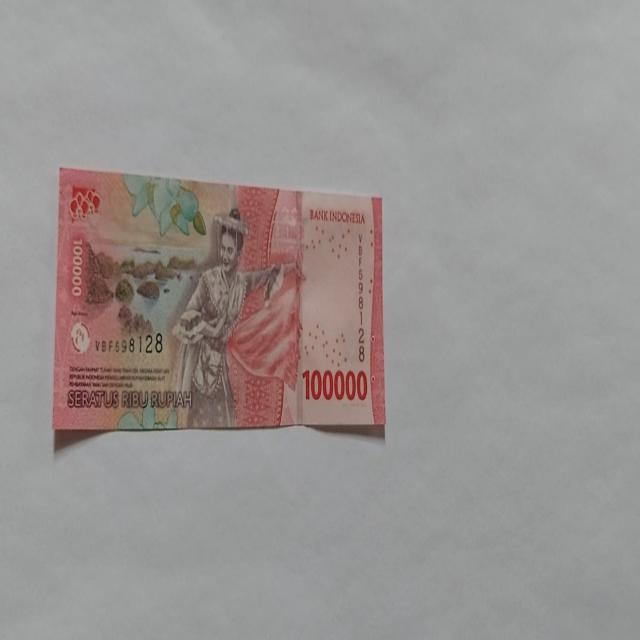seratus ribu rupiah: (52, 168, 386, 434), (169, 207, 287, 428)
